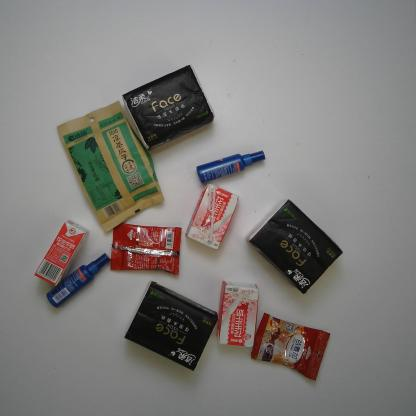Dried Food: (56, 101, 165, 233)
Instant Drink: (250, 312, 331, 381), (110, 220, 181, 274)
Milk: (35, 219, 88, 287), (185, 184, 239, 250), (213, 281, 259, 347)
Personal Hygiene: (46, 253, 110, 309), (196, 151, 265, 183)
Tissue: (247, 199, 342, 294), (124, 282, 218, 370), (122, 65, 214, 152)
